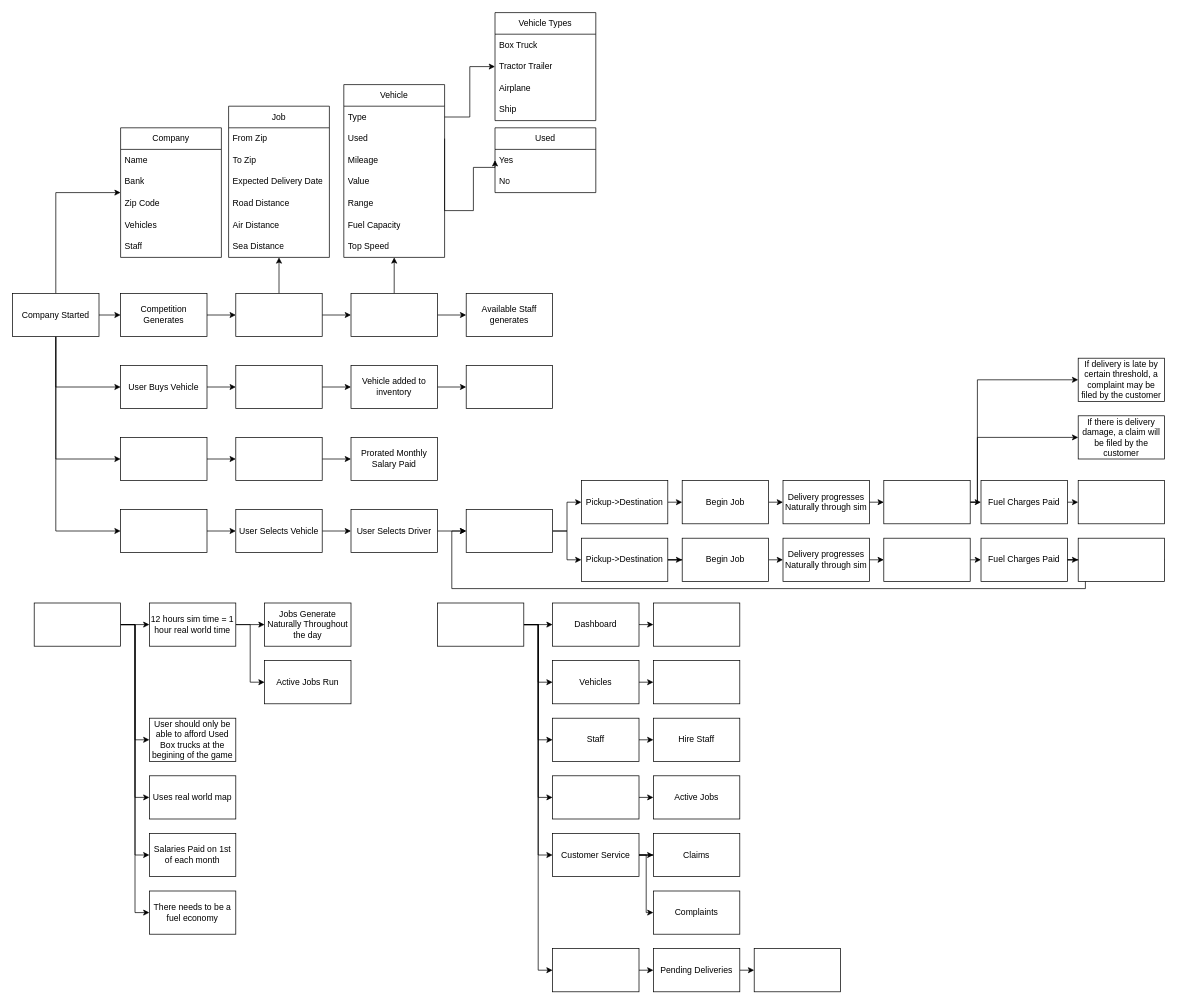
The diagram is 1183 pixels wide and 1004 high, and some of its shapes have lost their labels. The centre of each missing label's shape, as x and y in pixels:
Available Vehicles Generate: the point at 393,315
Book Delivery: the point at 797,970
Book Pending delivery: the point at 1121,559
Buy Vehicles: the point at 696,682
Cargo delivered to selected warehouse. Remains Pending Delivery: the point at 926,559
Delivery Complete: the point at 926,502
Home Warehouse Selected: the point at 278,387
Jobs: the point at 595,797
Jobs Generate: the point at 278,315
Route Selection: the point at 509,531
Shows Live Map (Not a separate view): the point at 696,624
Sim: the point at 77,624
Staff Added to Company Roster: the point at 278,459
User Books Job: the point at 163,531
User Hires Staff: the point at 163,459
User Paid: the point at 1121,502
Vehicle Driven to Home Warehouse: the point at 509,387
Views: the point at 480,624
Warehouses: the point at 595,970
